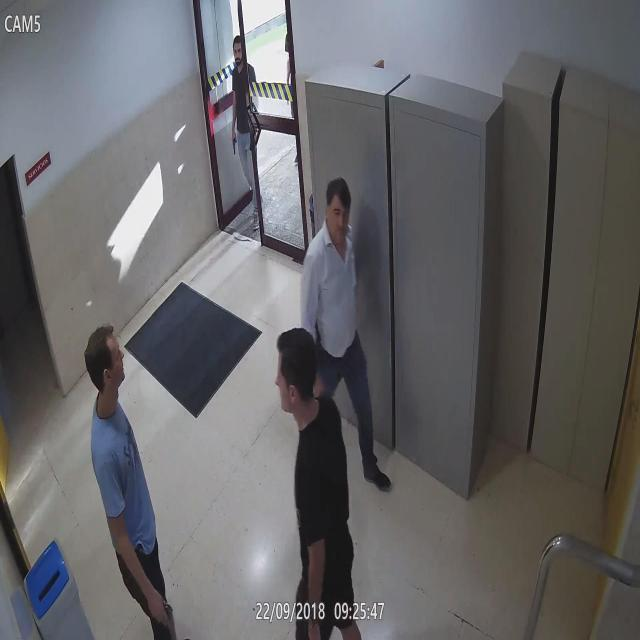pistol: (157, 597, 180, 640), (230, 131, 240, 158), (282, 96, 291, 112)
